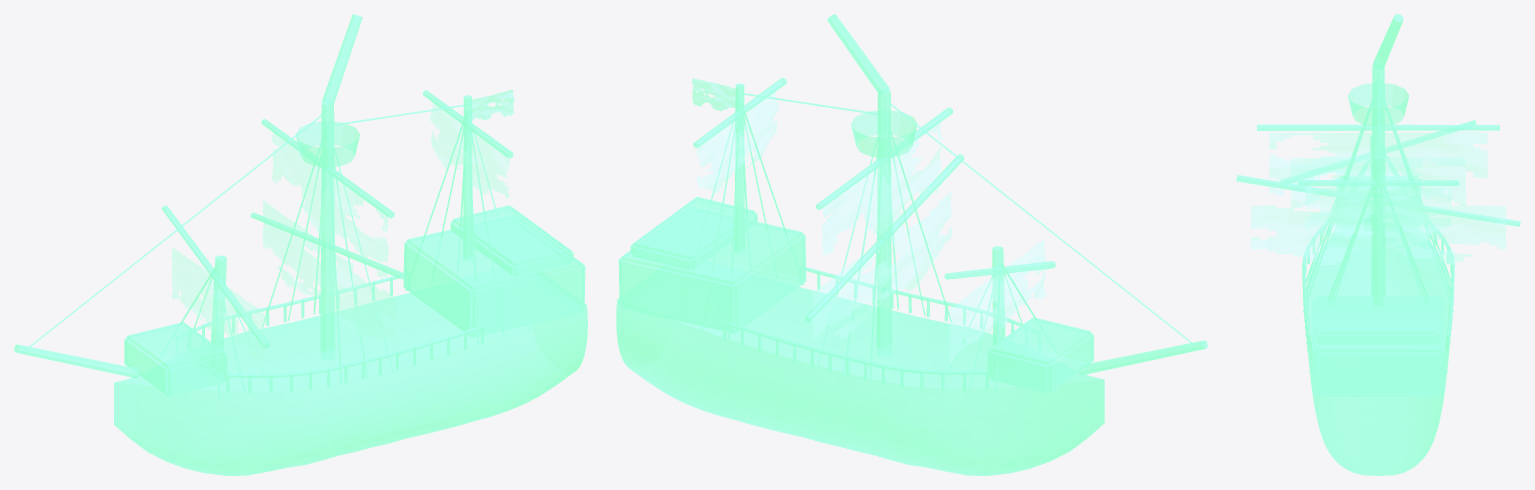
Rendered from ghost_ship_prototype.glb.
3 views of the same model, side by side, from view 1: azimuth 30°, elevation 25°; view 2: azimuth 150°, elevation 25°; view 3: azimuth 270°, elevation 25° (orthographic). The views are drawn at different scales.
Parts seen in each view (by area): view 1: GhostShip_Hull, GhostShip_Sails, GhostShip_Flag; view 2: GhostShip_Hull, GhostShip_Sails, GhostShip_Flag; view 3: GhostShip_Hull, GhostShip_Sails.
Part boxes in pixels (<box>): GhostShip_Hull: <box>14,14,587,475</box>; GhostShip_Sails: <box>171,102,509,367</box>; GhostShip_Flag: <box>469,90,514,119</box>; GhostShip_Hull: <box>616,14,1207,475</box>; GhostShip_Sails: <box>696,92,1045,361</box>; GhostShip_Flag: <box>692,78,738,111</box>; GhostShip_Hull: <box>1236,14,1520,475</box>; GhostShip_Sails: <box>1251,131,1505,264</box>.
Size of the model in its own units: 7.34 by 5.39 by 3.51.
